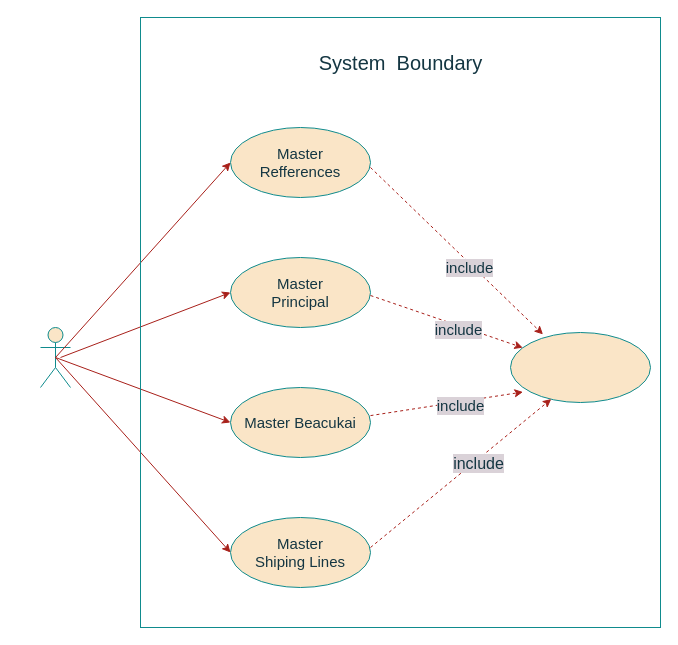
This 678x645 diagram has some shape labels left out. The shapes that lost their labels are listed below. From the top down, each one's centre as x and y in pixels, then its label:
At pixel 55 357: "Admin TPP".
At pixel 580 367: "Login".
